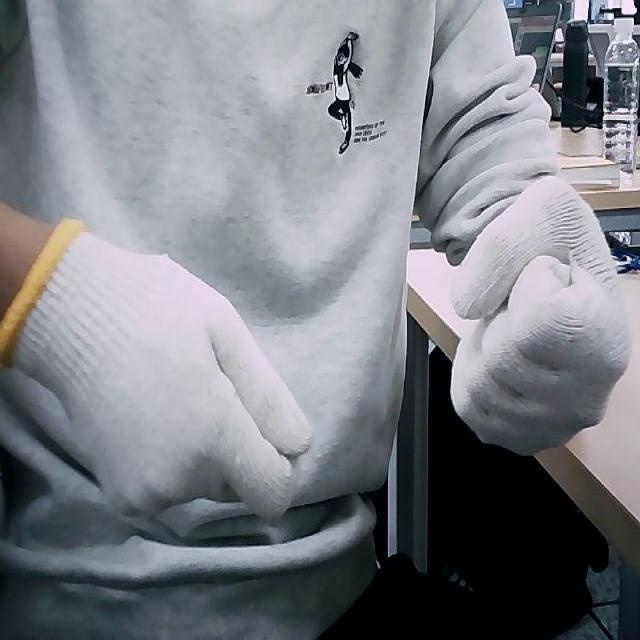Guantes: (0, 214, 315, 524), (449, 176, 632, 455)
